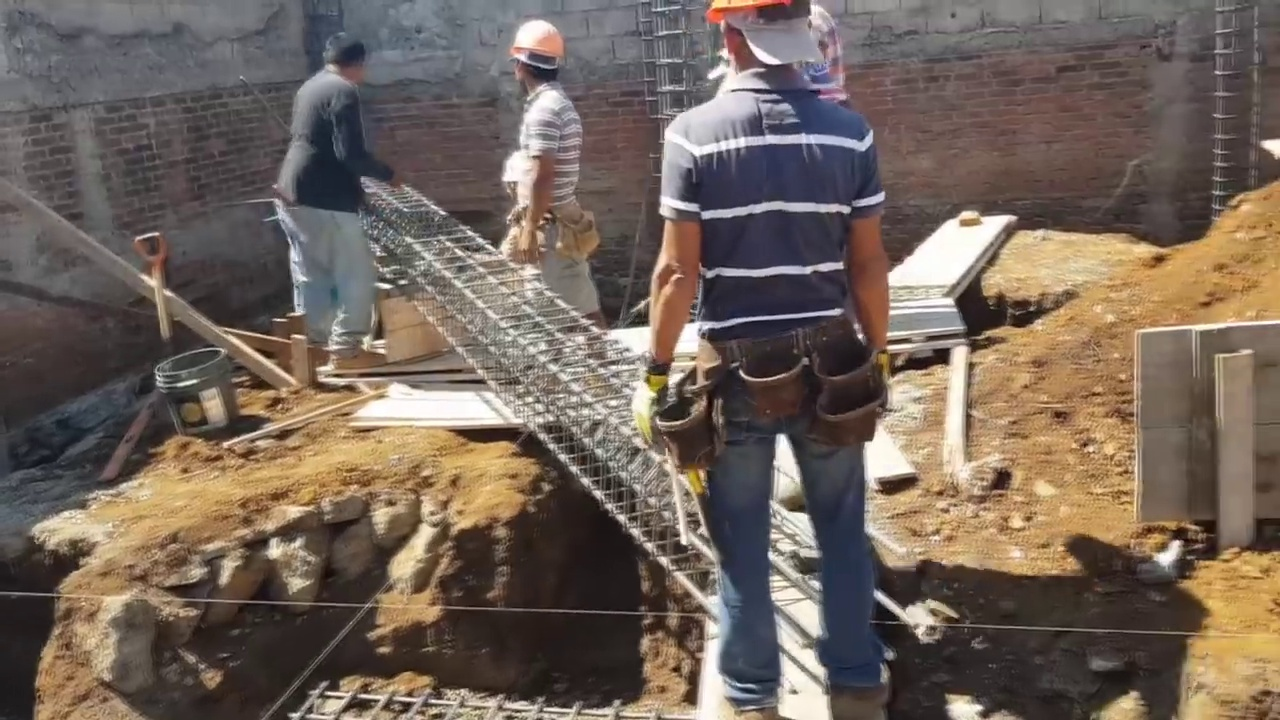helmet: (506, 24, 570, 72)
helmet-off: (321, 32, 361, 81)
helmet-on: (703, 3, 829, 83), (504, 18, 564, 96)
person: (624, 0, 918, 720), (274, 24, 390, 366), (495, 12, 589, 315), (797, 9, 856, 114)
